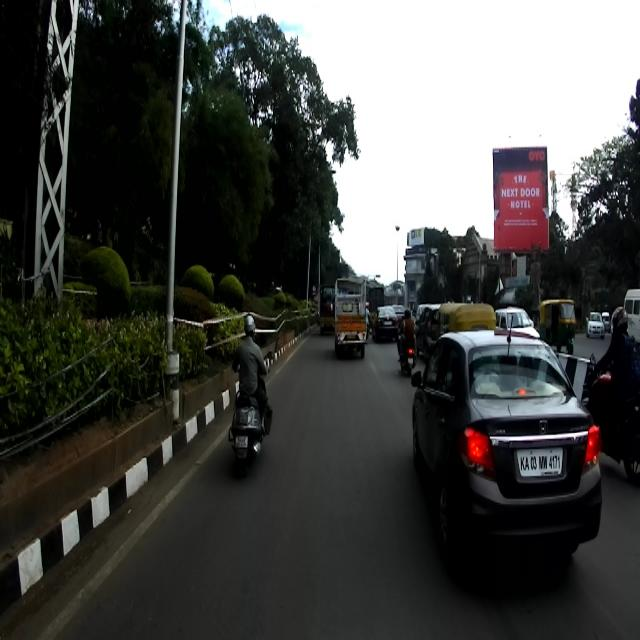Car_Honda: (410, 314, 602, 566)
motorcycle_bajaj: (580, 352, 640, 483)
scooter: (228, 350, 272, 478)
truck: (333, 268, 368, 369)
